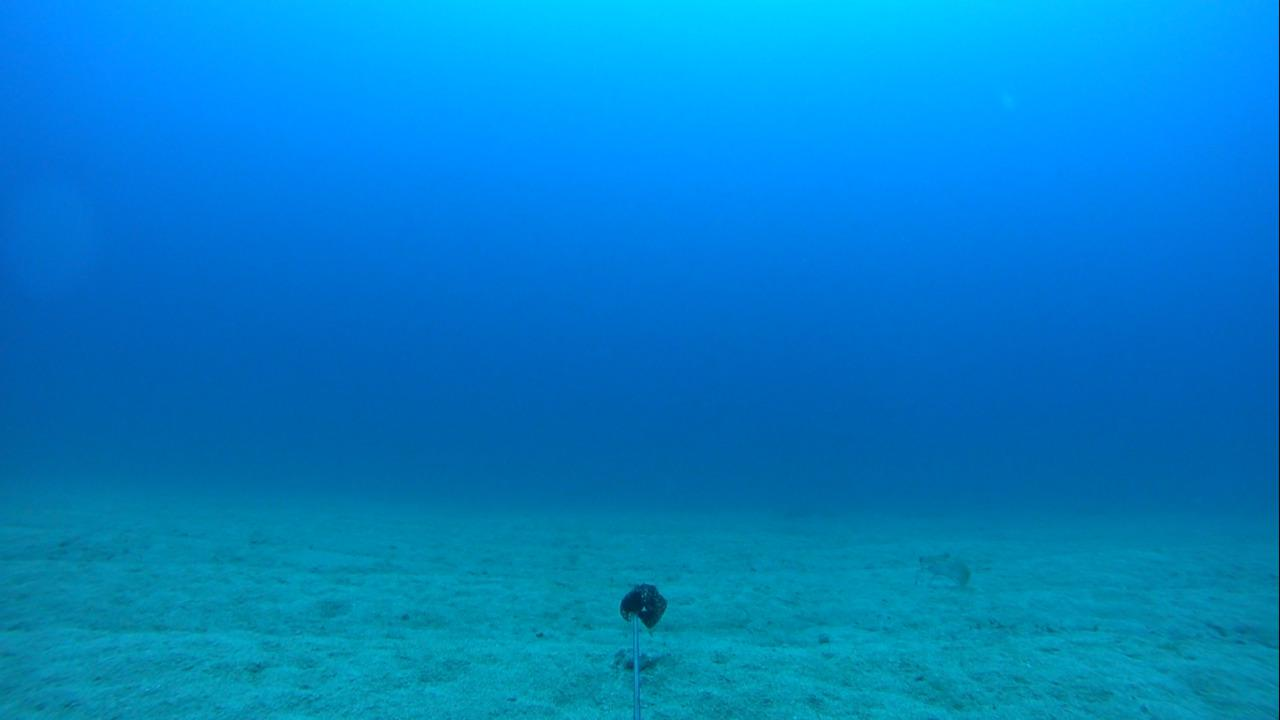dactylopterus: (894, 543, 979, 590)
